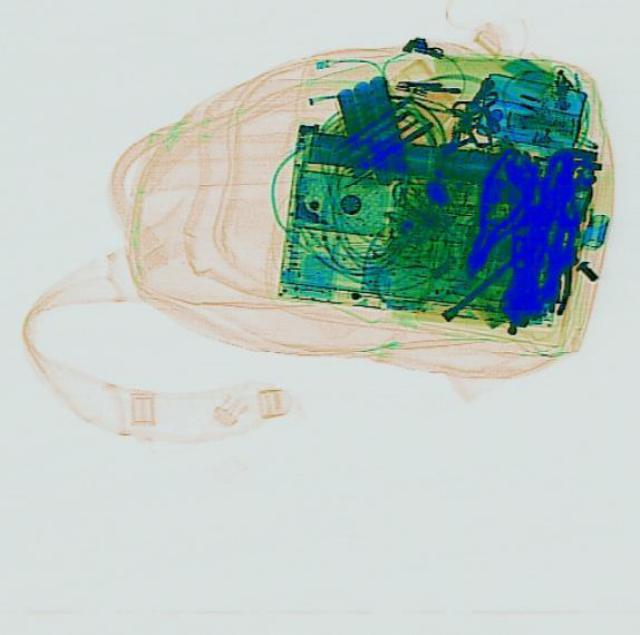Pliers: (448, 142, 548, 279)
